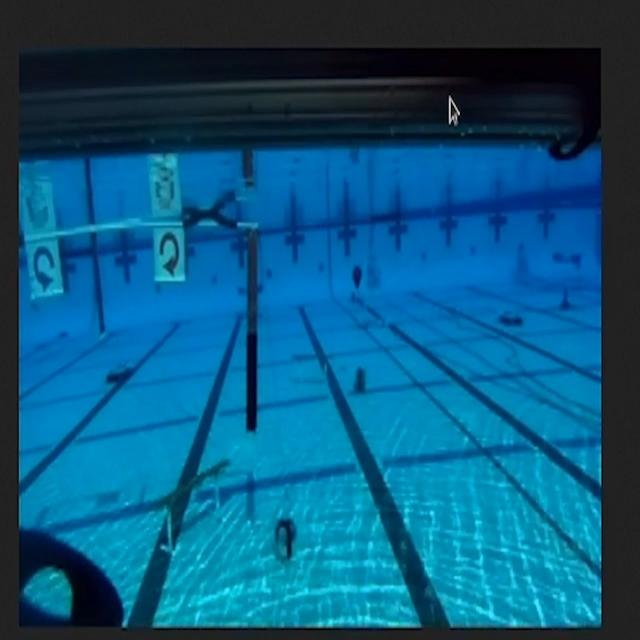Gate: (18, 206, 272, 444)
Path: (146, 450, 233, 556)
